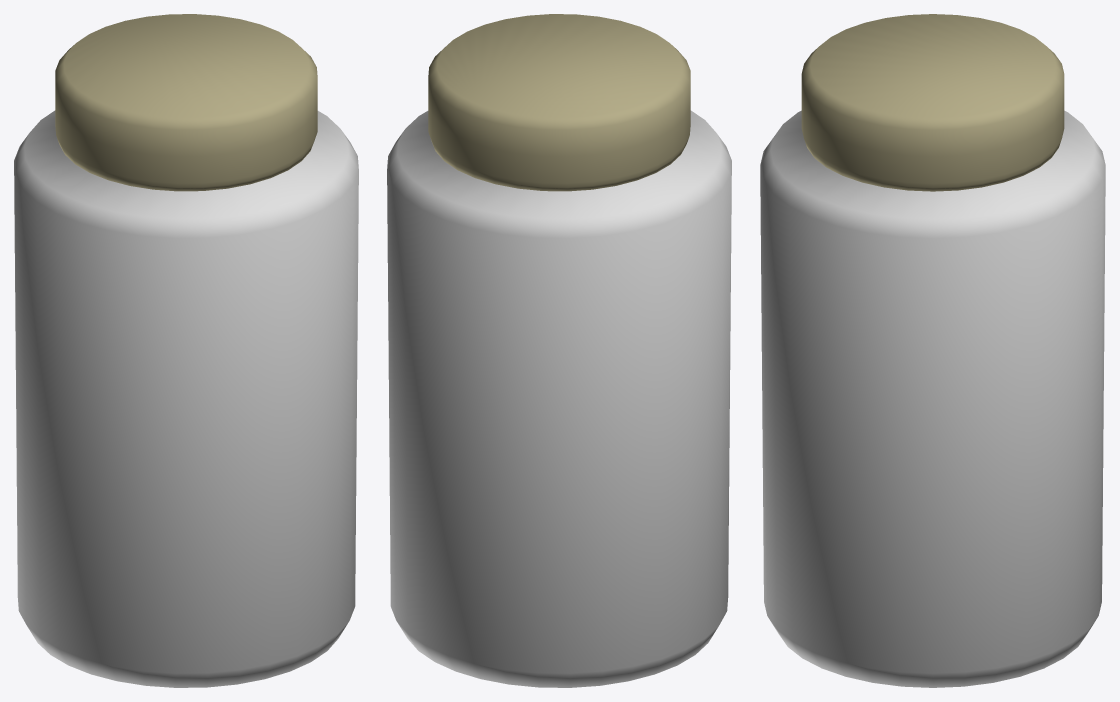
Rendered from air fix.fbx.
3 renders of one model, left to right at view 1: azimuth 30°, elevation 25°; view 2: azimuth 150°, elevation 25°; view 3: azimuth 270°, elevation 25°, orthographic.
Visible parts, largest first — view 1: Cylinder, Cylinder.002; view 2: Cylinder, Cylinder.002; view 3: Cylinder, Cylinder.002.
Part boxes in pixels (bbox=[...]): Cylinder: bbox=[14, 110, 358, 687]; Cylinder.002: bbox=[55, 14, 317, 191]; Cylinder: bbox=[387, 110, 731, 687]; Cylinder.002: bbox=[428, 14, 690, 191]; Cylinder: bbox=[760, 110, 1105, 687]; Cylinder.002: bbox=[801, 14, 1064, 191].
Size of the model in its own units: 13.35 by 23.69 by 13.35.
